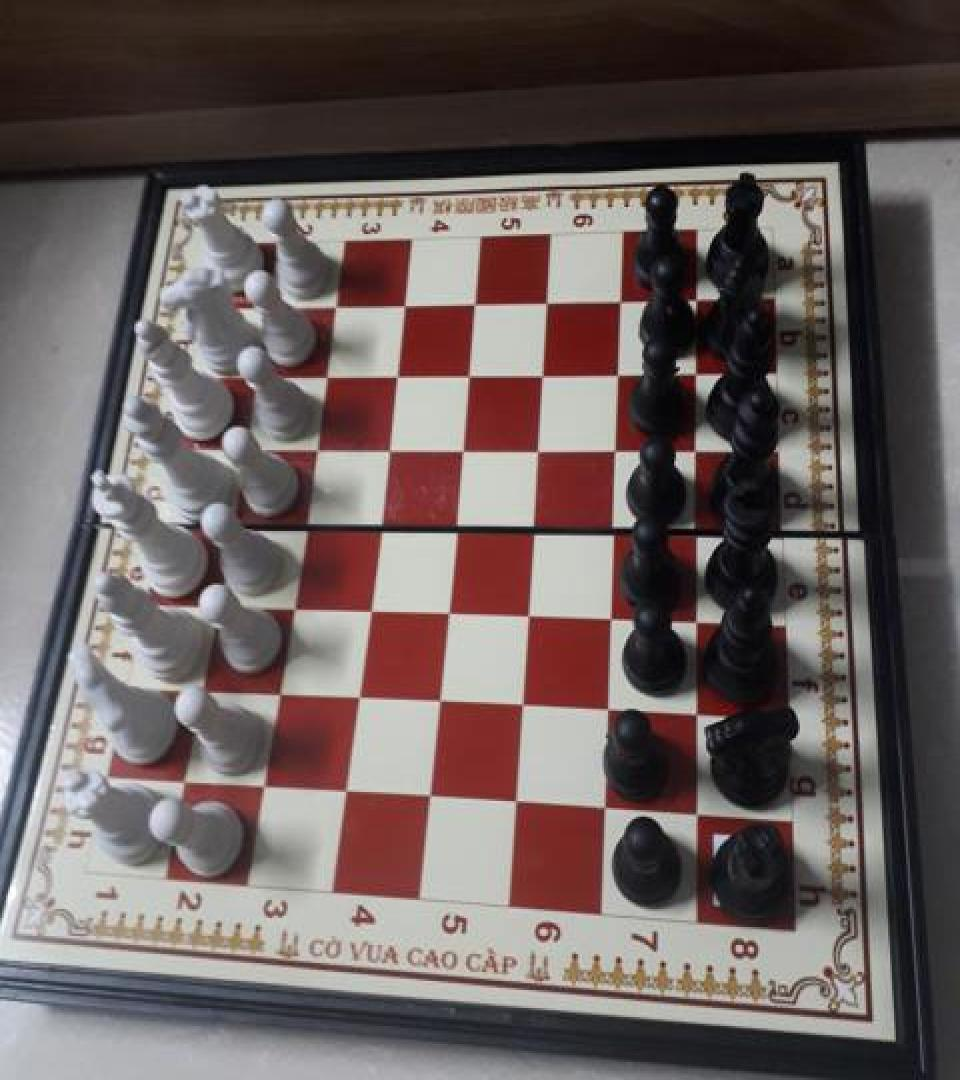xcorner: (686, 281, 716, 315), (610, 282, 640, 316), (463, 284, 493, 318), (392, 286, 422, 320), (322, 287, 352, 321), (254, 288, 284, 322), (685, 354, 715, 388), (312, 356, 342, 390), (242, 356, 272, 390), (685, 433, 715, 467), (604, 432, 634, 466), (525, 432, 555, 466), (449, 431, 479, 465), (374, 430, 404, 464), (301, 430, 331, 464), (229, 428, 259, 462), (684, 516, 714, 550), (601, 514, 631, 548), (520, 512, 550, 546), (441, 510, 471, 544), (364, 508, 394, 542), (289, 507, 319, 541), (216, 506, 246, 540), (684, 604, 714, 638), (514, 598, 544, 632), (433, 595, 463, 629), (354, 593, 384, 627), (277, 590, 307, 624), (202, 587, 232, 621), (683, 698, 713, 732), (594, 693, 624, 727), (508, 690, 538, 724), (425, 685, 455, 719), (264, 677, 294, 711), (187, 672, 217, 706), (682, 798, 712, 832), (591, 792, 621, 826), (502, 786, 532, 820), (416, 780, 446, 814), (332, 775, 362, 809), (250, 770, 280, 804), (170, 765, 200, 799), (535, 284, 565, 317), (607, 356, 637, 389), (530, 356, 560, 389), (456, 356, 486, 389), (383, 356, 413, 389), (598, 601, 628, 634), (343, 681, 373, 714)
